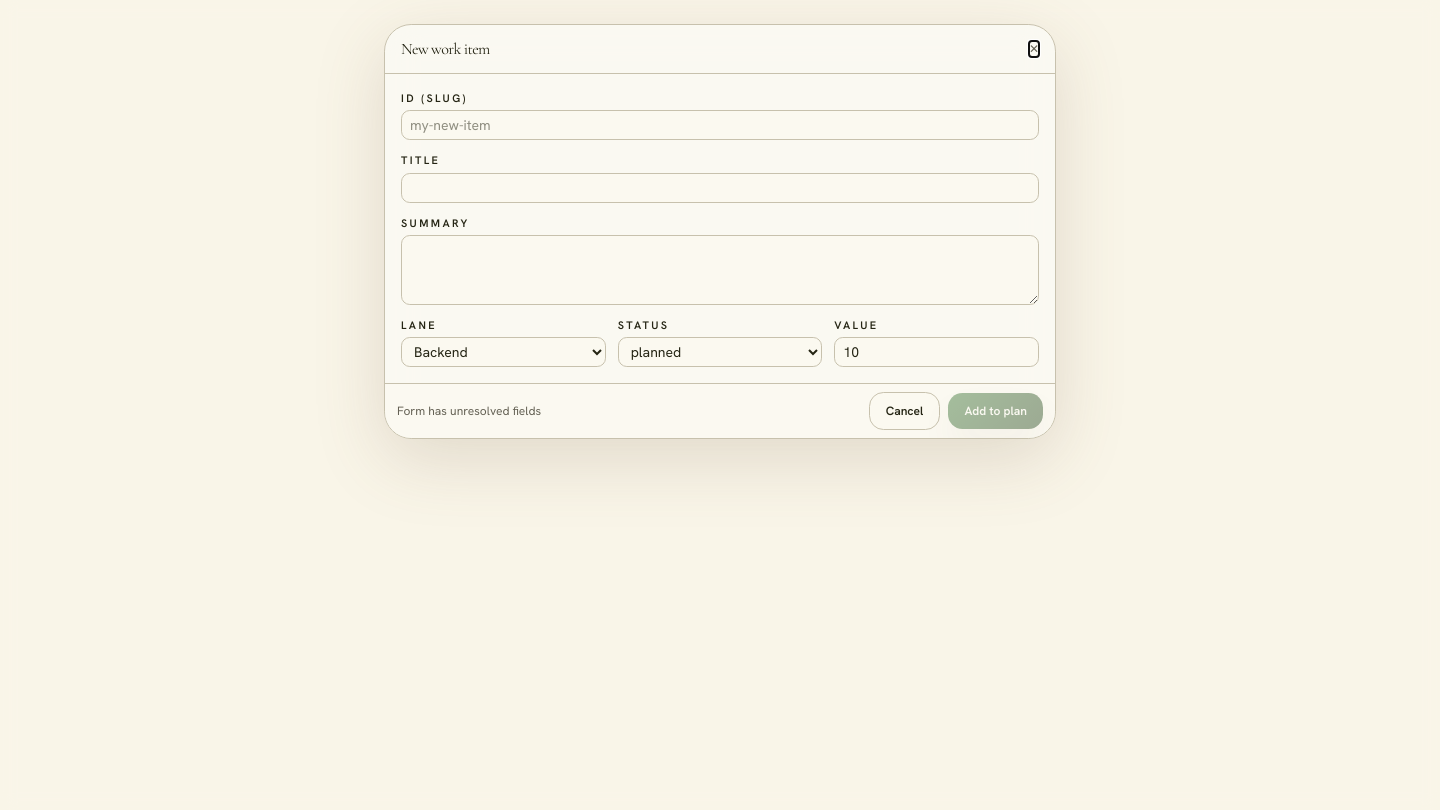
Scenario: NewItemForm › surfaces a validation_failed error message when the server rejects the create
The width and height of the screenshot is (1440, 810).
Type "ship-it" into the field with test id "nif-id".
click(720, 125); type("ship-it")  # box [401, 110, 1039, 140]
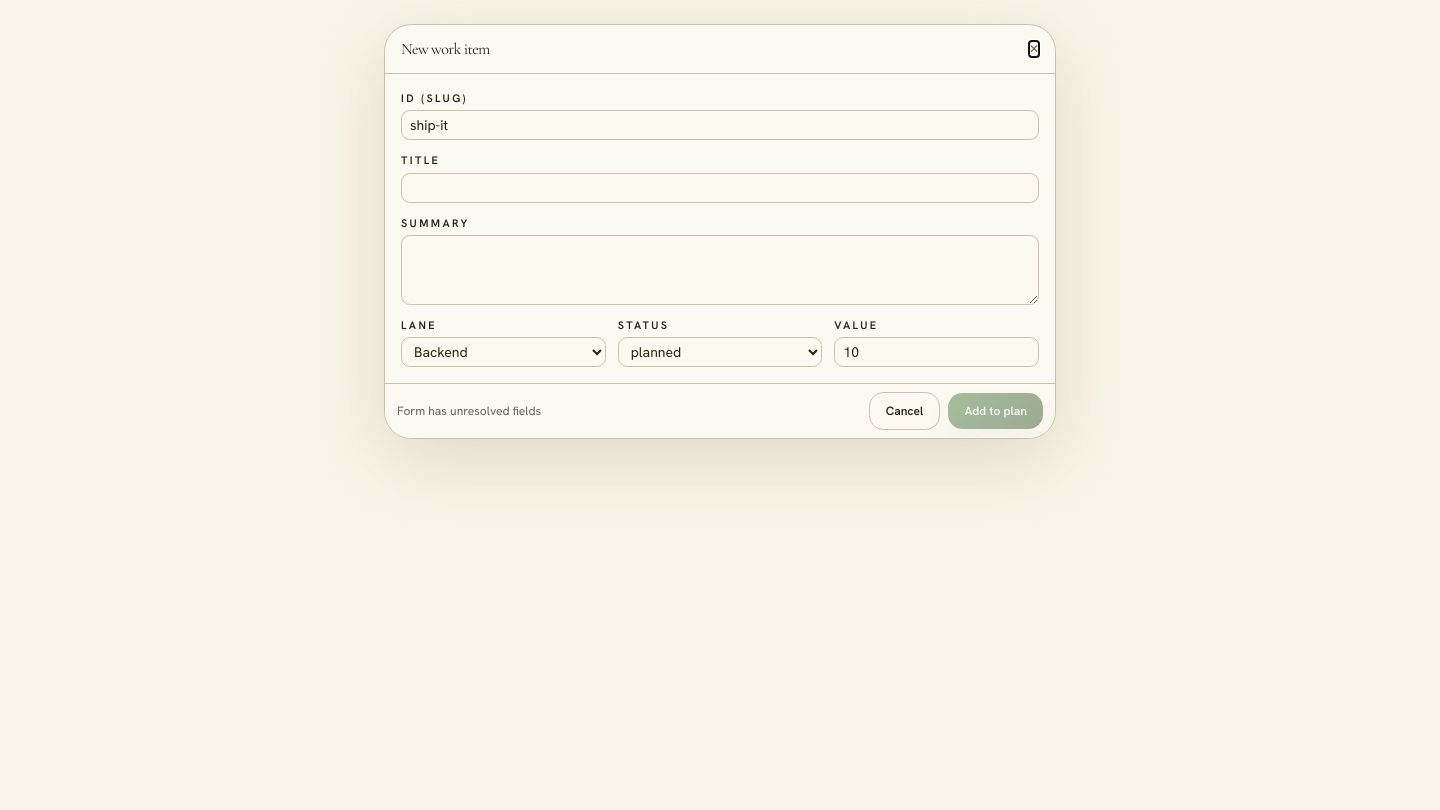
Type "Ship the thing" into the field with test id "nif-title".
click(720, 188); type("Ship the thing")  # box [401, 173, 1039, 203]
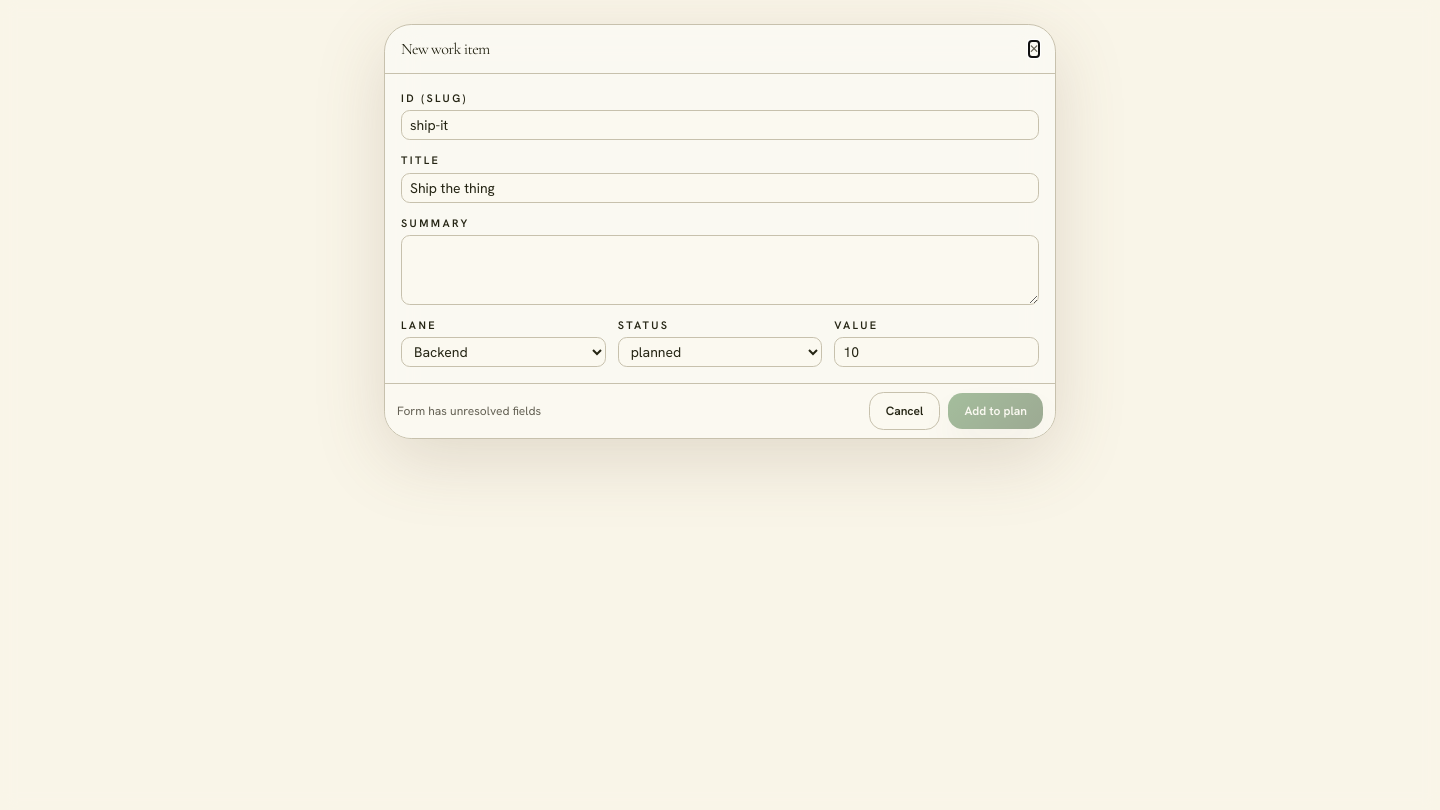
Type "Tighten the bolts." into the text box with test id "nif-summary".
click(720, 270); type("Tighten the bolts.")  # box [401, 235, 1039, 305]
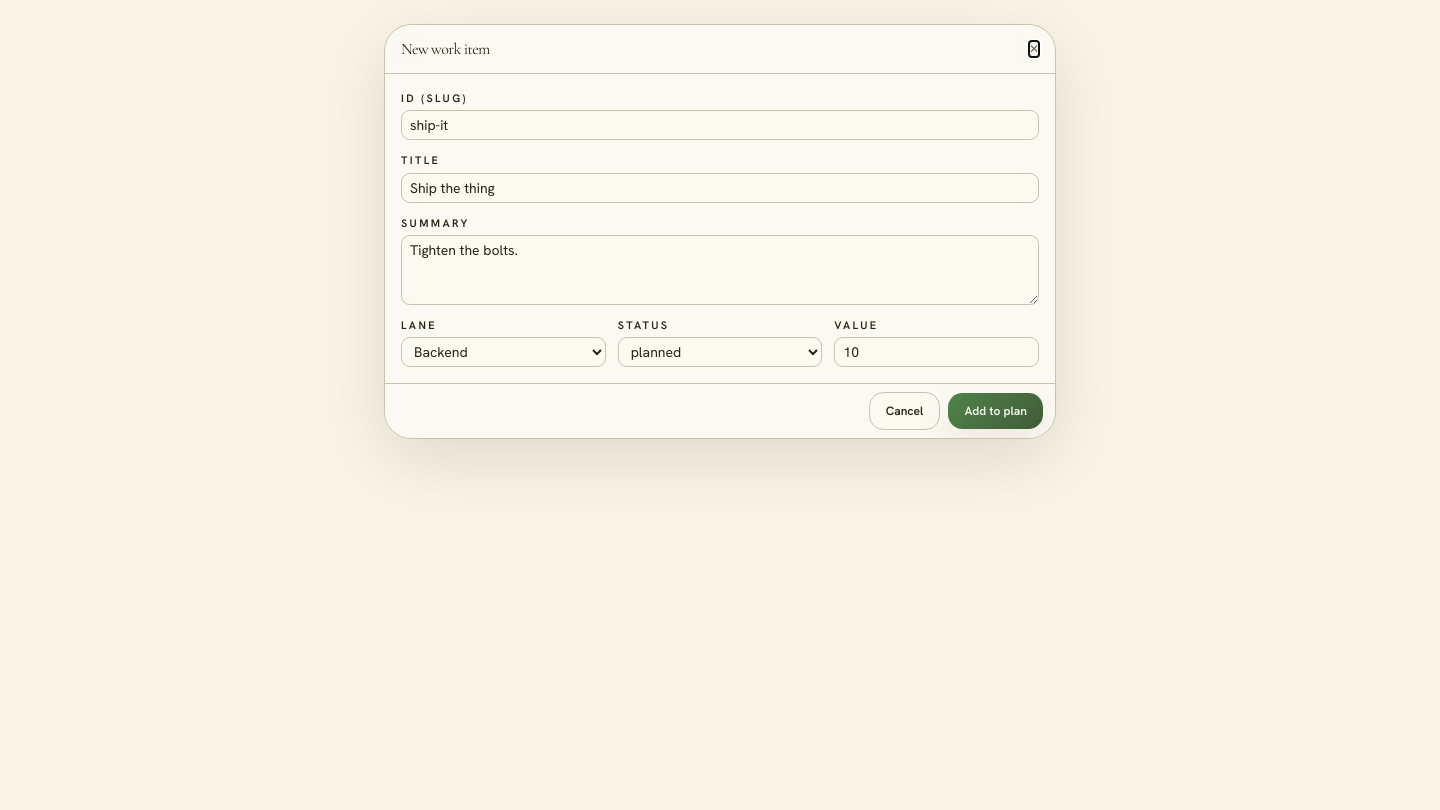
Click the button with test id "create-bar-primary".
click(996, 411)  # box [948, 393, 1043, 429]
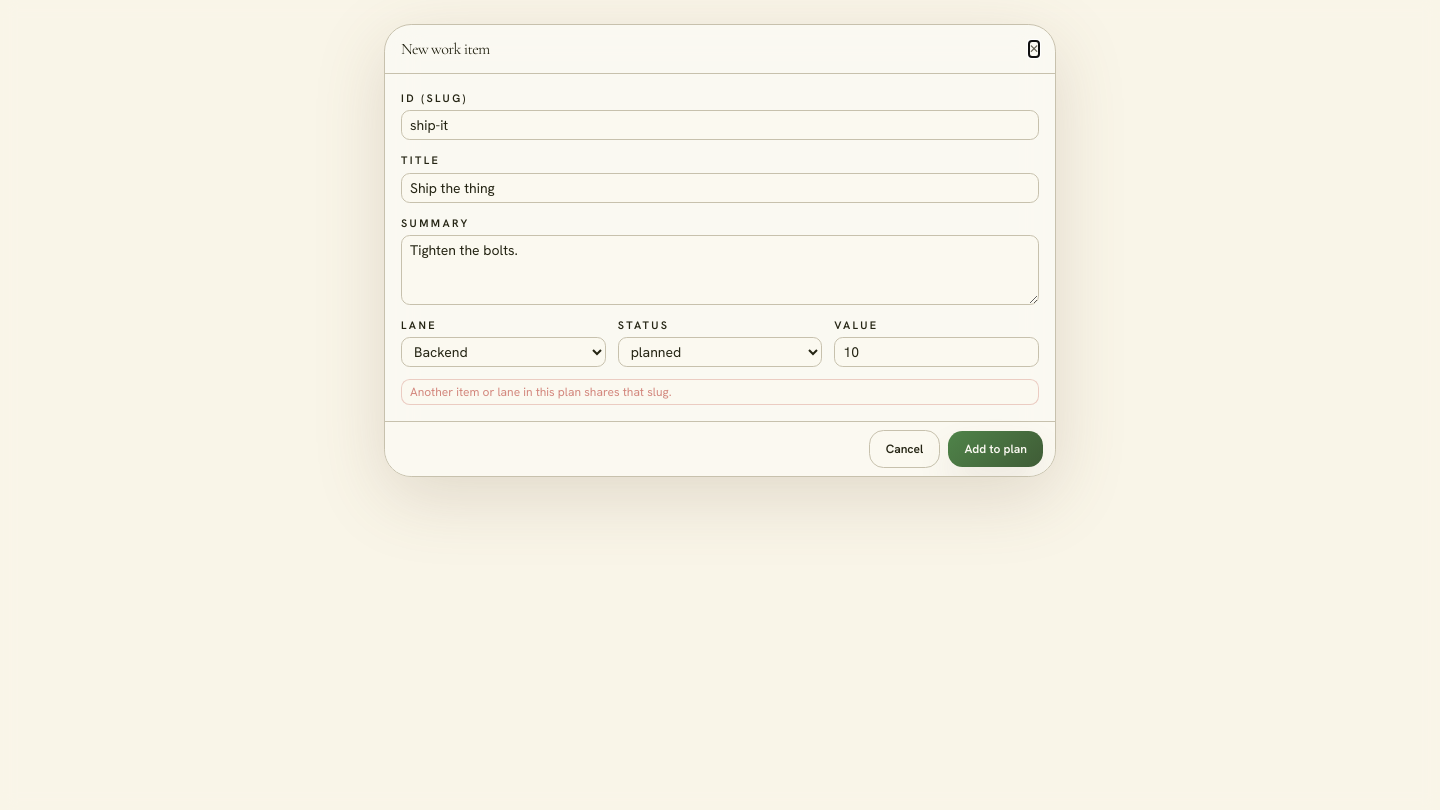
Expected: the message with test id "nif-error" shows "shares that slug", [410, 384, 672, 400]
